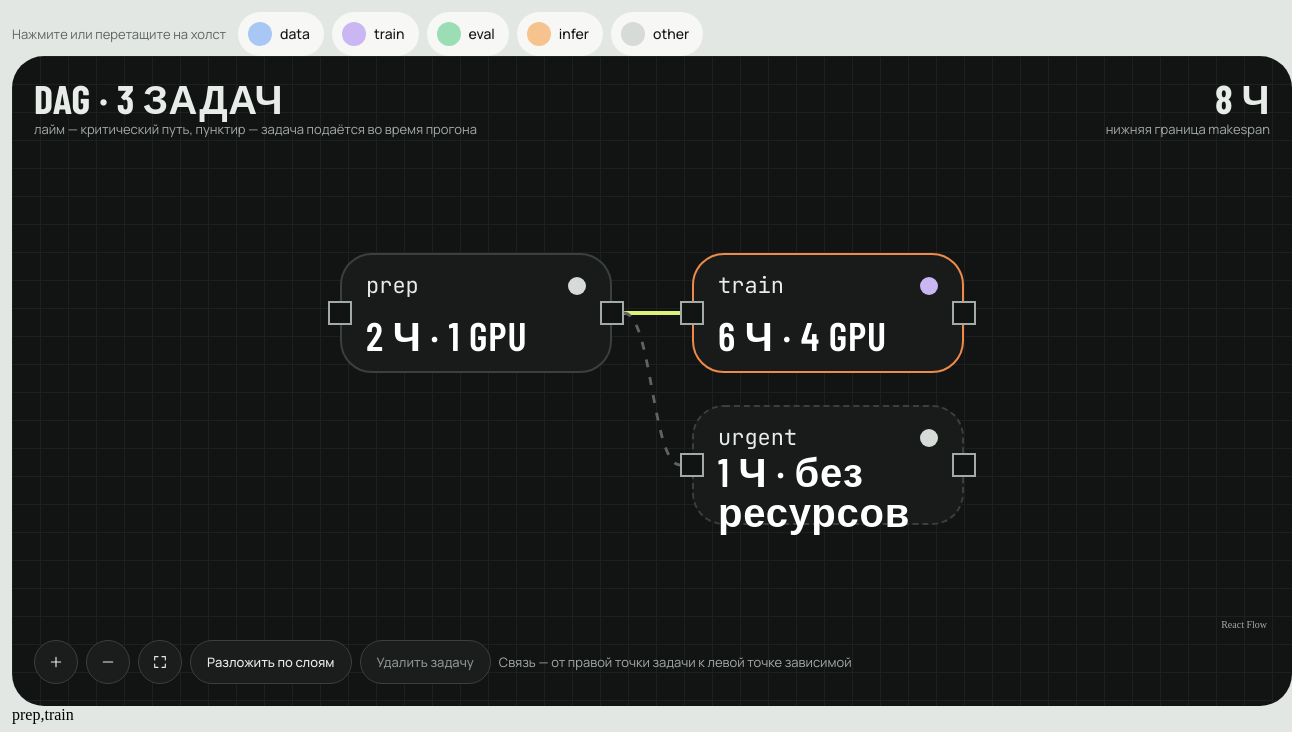
Test: Canvas › adds a task from the palette and selects it
The width and height of the screenshot is (1292, 732).
Click the button "eval".
click(468, 34)  # box [426, 12, 509, 56]
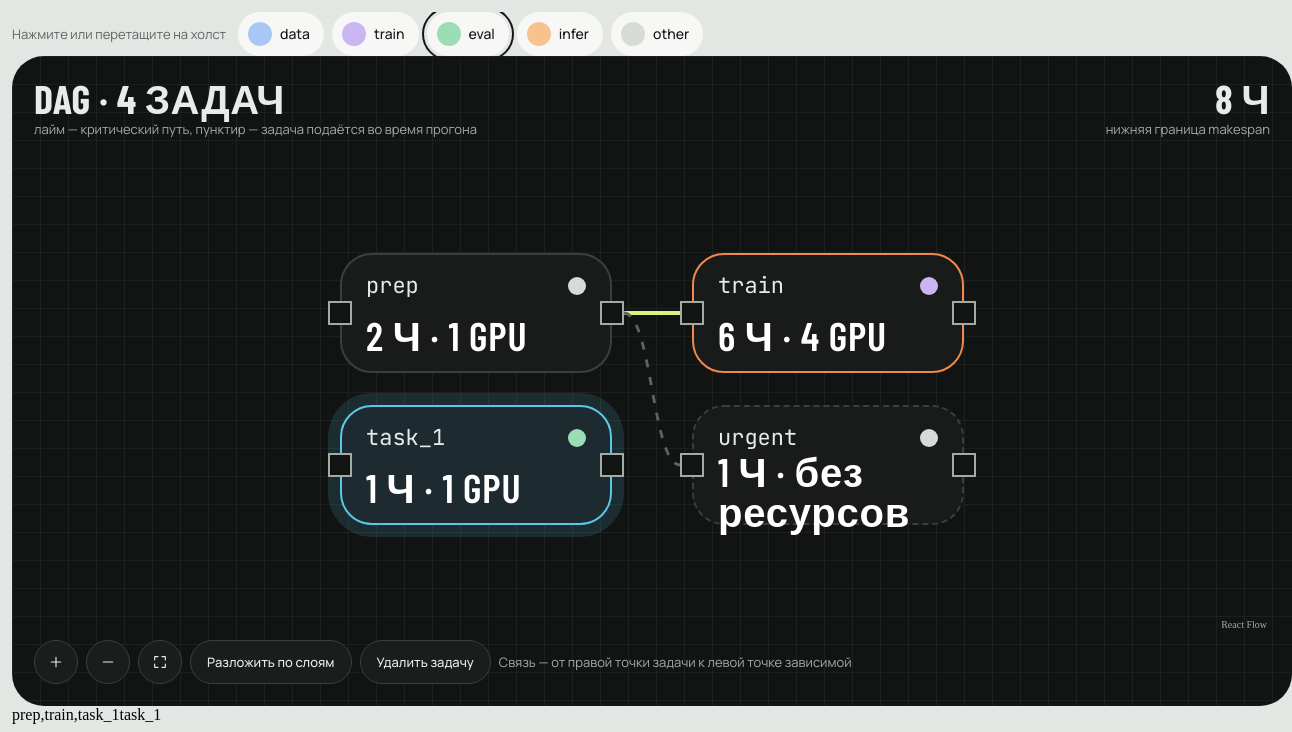
Result: the text with test id "ids" reads "prep,train,task_1" at [12, 706, 120, 723]
Result: the 2nd text with test id "selected" reads "task_1" at [120, 706, 161, 723]
